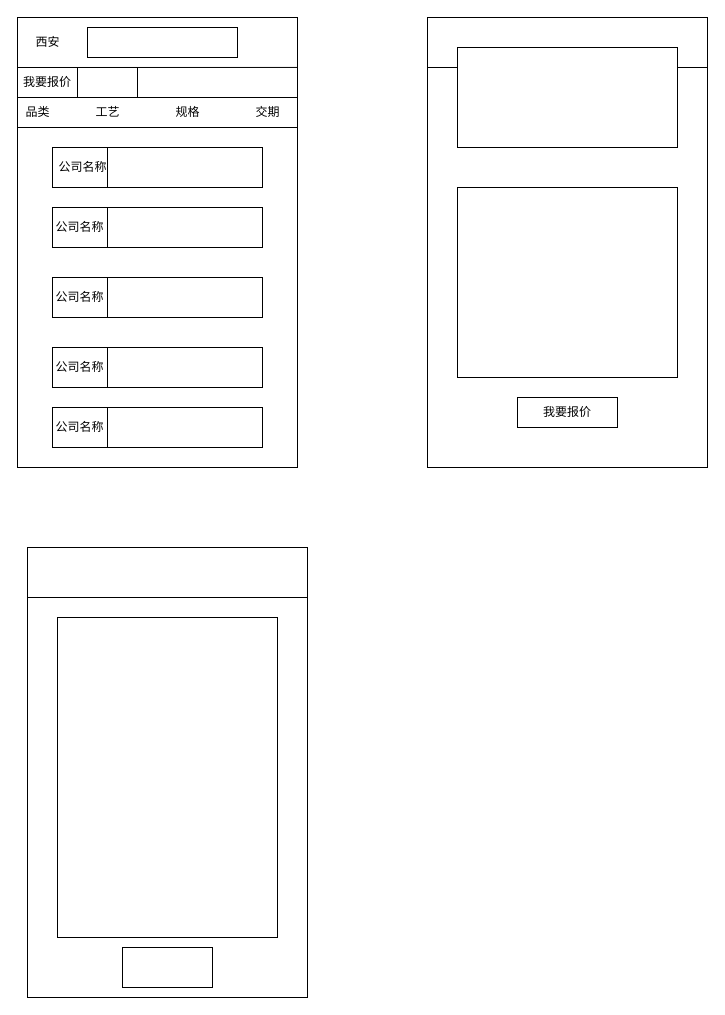
This 725x1015 diagram has some shape labels left out. Here are the shapes that lost their labels. From the top down, the centre of each, then its label:
point 107,82: 我要采购
point 167,967: 确认
